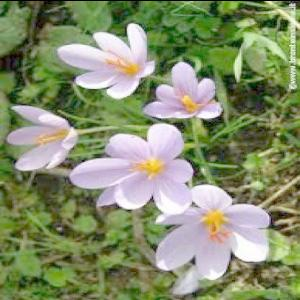Saffron: (69, 124, 194, 215), (156, 181, 270, 278), (61, 21, 153, 102), (7, 104, 75, 170), (146, 61, 222, 117)
